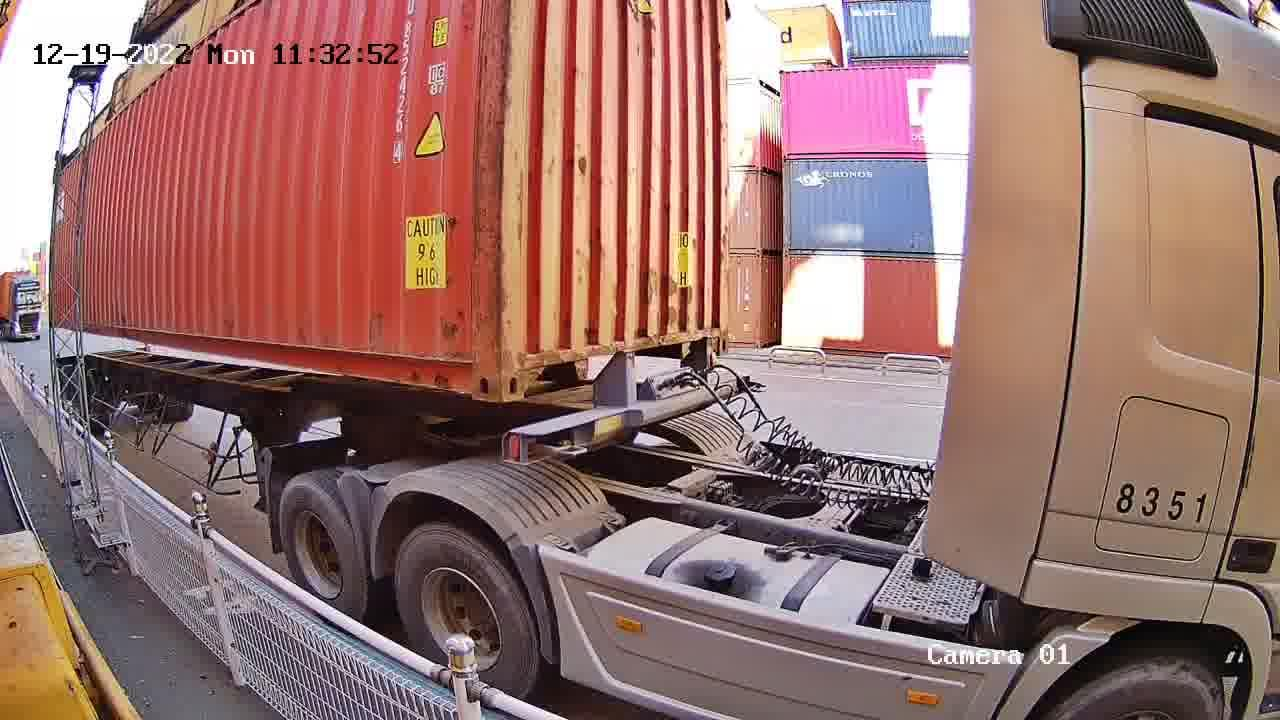Chassis: (504, 373, 753, 464)
Cone: (509, 434, 588, 461), (736, 378, 771, 395)
Hole_L: (499, 343, 544, 402)
Hole_R: (448, 343, 496, 405), (710, 317, 732, 353)
Tire: (397, 526, 532, 694), (277, 483, 362, 611)
